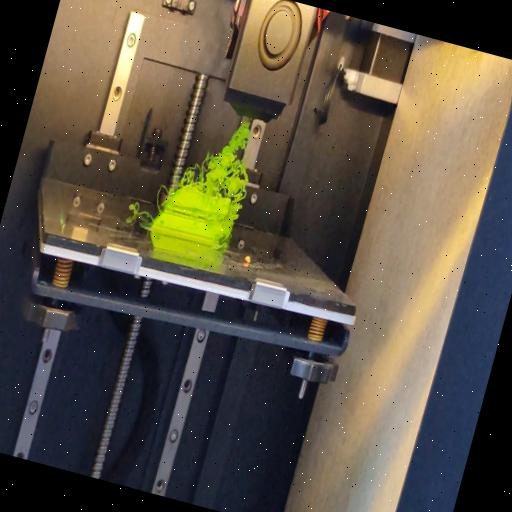spaghetti: (176, 104, 264, 204), (216, 201, 244, 253), (124, 199, 154, 224), (153, 184, 170, 210)
